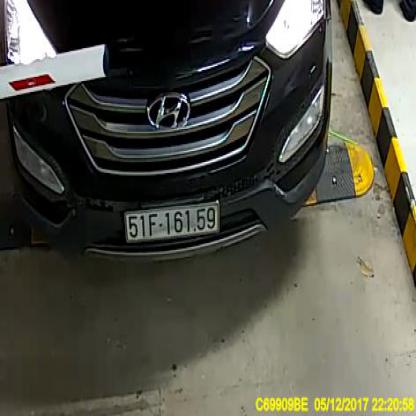biensoxe: (125, 203, 220, 243)
